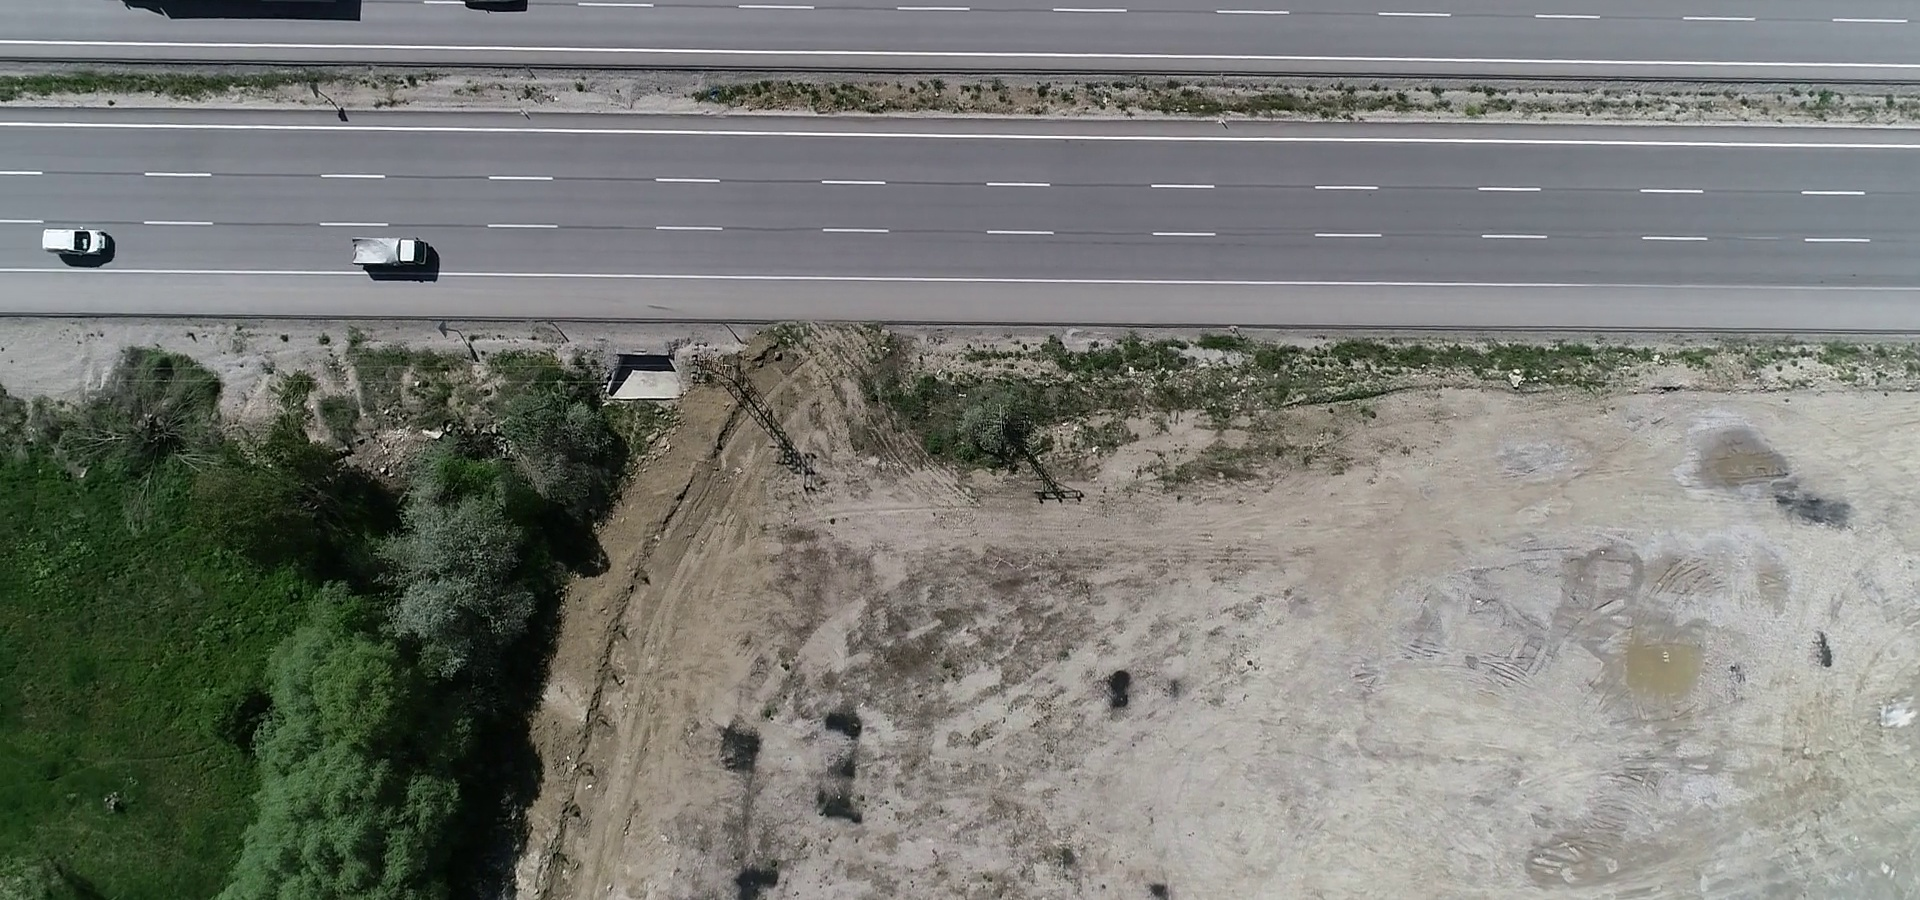arac: (342, 231, 430, 280), (39, 224, 126, 260)
